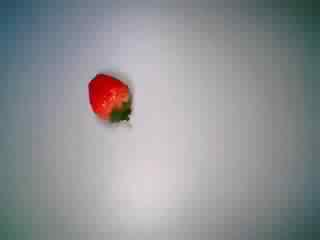strawberry: (74, 66, 142, 130)
